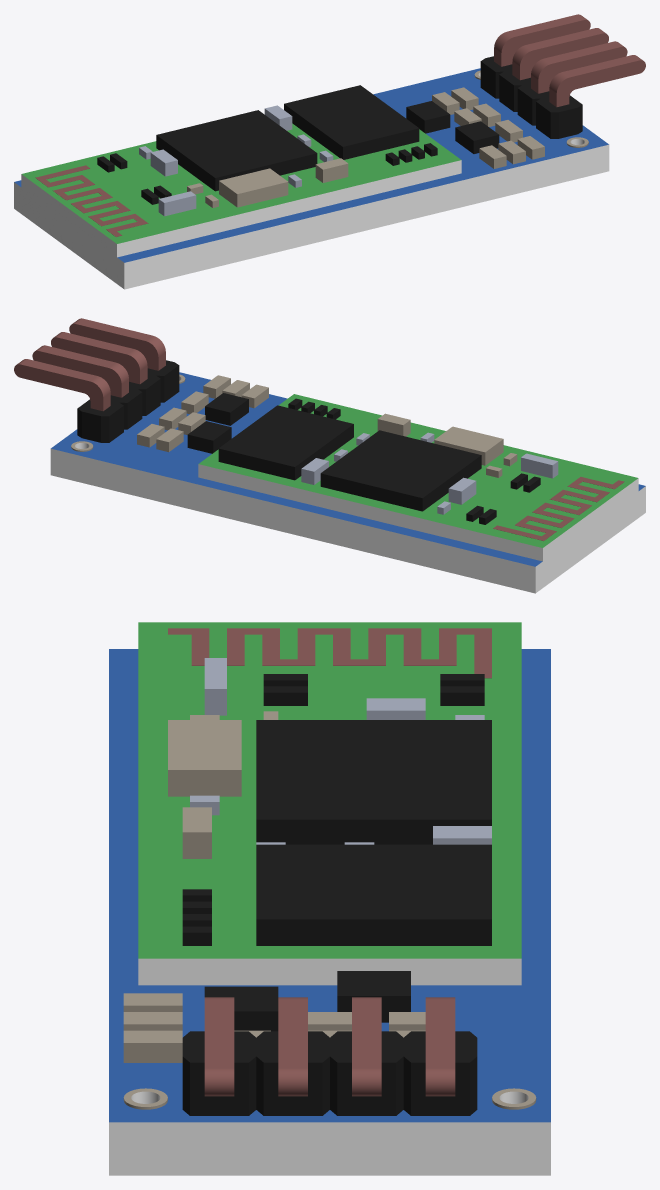
File: bluetooth_hc-06.dae
The picture shows the model from 3 angles, top to bottom: view 1: azimuth 30°, elevation 25°; view 2: azimuth 150°, elevation 25°; view 3: azimuth 270°, elevation 25°; orthographic projection. The views are drawn at different scales.
Parts seen in each view (by area): view 1: node_6177e391_6418_4710_ae5a_25fba40dbc23_mesh0; view 2: node_6177e391_6418_4710_ae5a_25fba40dbc23_mesh0; view 3: node_6177e391_6418_4710_ae5a_25fba40dbc23_mesh0.
Part boxes in pixels (left/top/right/bottom): node_6177e391_6418_4710_ae5a_25fba40dbc23_mesh0: left=14, top=14, right=645, bottom=289; node_6177e391_6418_4710_ae5a_25fba40dbc23_mesh0: left=14, top=318, right=645, bottom=593; node_6177e391_6418_4710_ae5a_25fba40dbc23_mesh0: left=109, top=622, right=550, bottom=1175.
Bounding box in the file's own units: 0.0427 × 0.0061 × 0.015.
